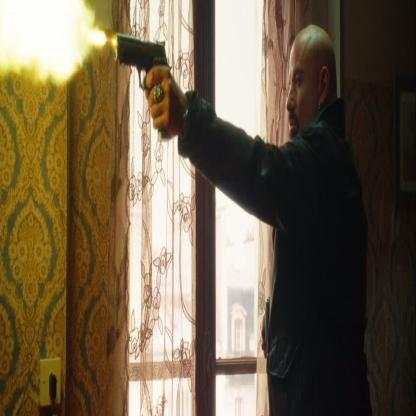gun: (109, 15, 175, 142)
